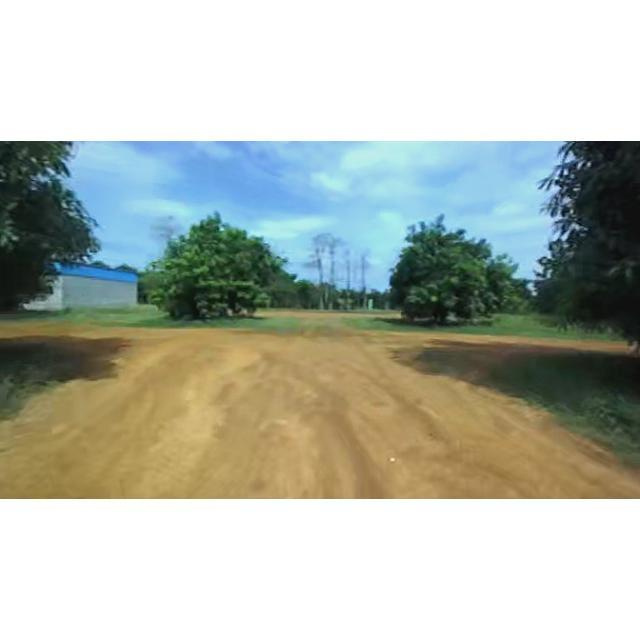direk: (524, 142, 640, 366), (0, 142, 116, 330), (141, 198, 291, 326), (387, 218, 527, 338), (305, 232, 329, 316), (325, 233, 341, 309), (343, 242, 357, 312), (359, 243, 373, 309)
